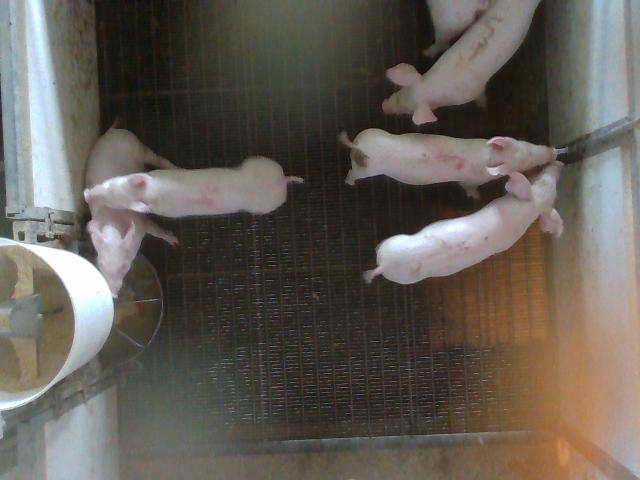pig-3: (384, 0, 538, 124)
pig-4: (84, 156, 302, 218)
pig-5: (339, 129, 558, 197)
